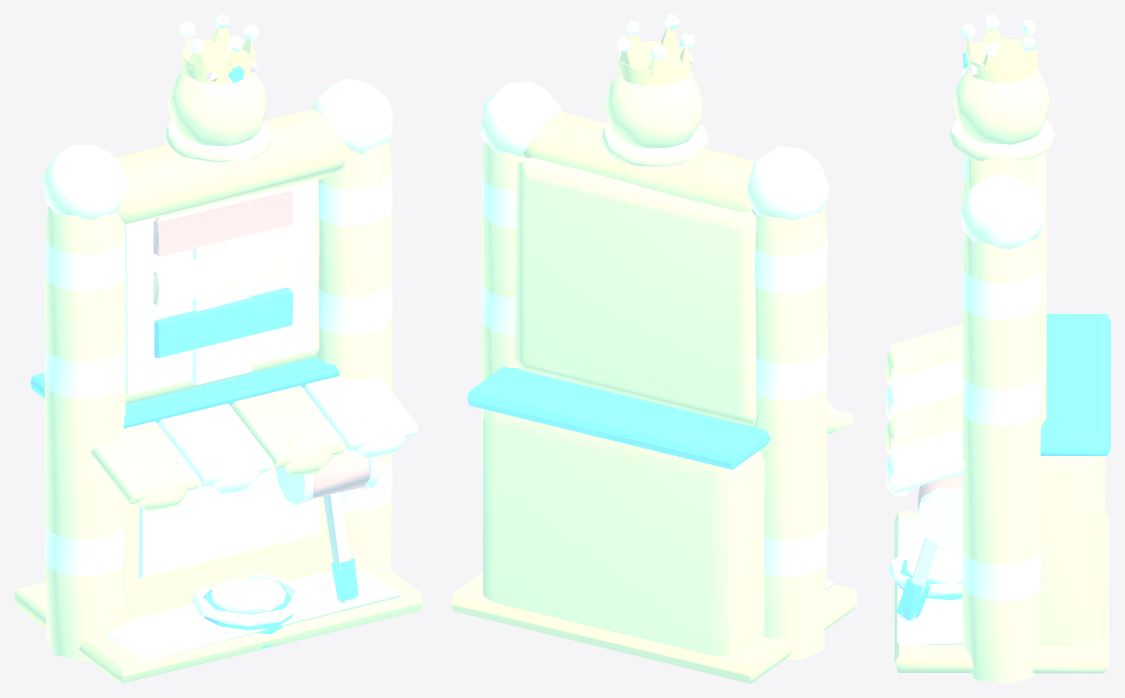
The model's file is props__CrateCrackerVip.glb.
The picture shows the model from 3 angles, left to right: view 1: azimuth 30°, elevation 25°; view 2: azimuth 150°, elevation 25°; view 3: azimuth 270°, elevation 25°; orthographic projection.
Parts seen in each view (by area): view 1: CrateCrackerVip; view 2: CrateCrackerVip; view 3: CrateCrackerVip.
Part boxes in pixels (bbox=[...]): CrateCrackerVip: bbox=[14, 14, 422, 683]; CrateCrackerVip: bbox=[451, 14, 857, 683]; CrateCrackerVip: bbox=[886, 14, 1110, 683].
Size of the model in its own units: 11.17 by 18.54 by 6.52.
